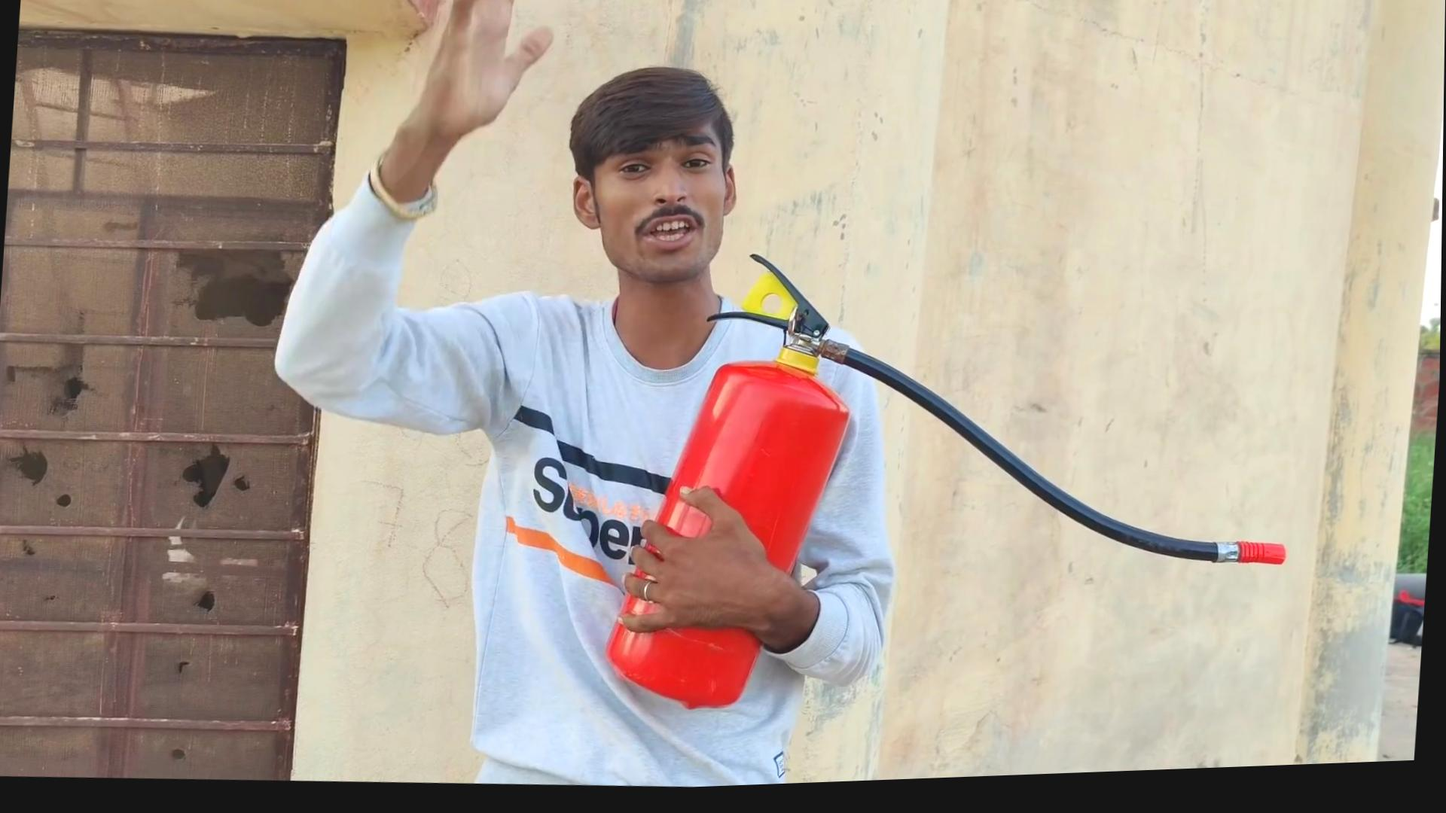FireExtinguisher: (576, 290, 897, 749)
